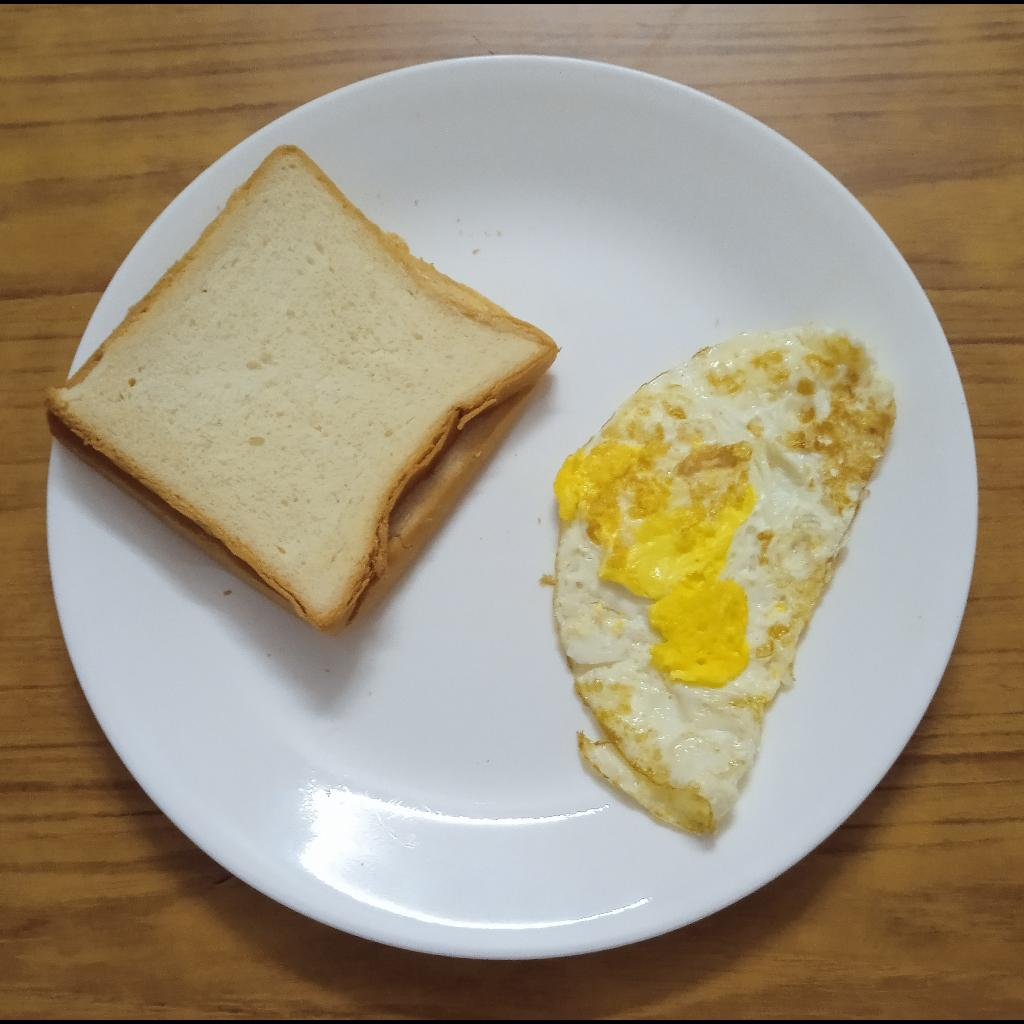bread: (43, 142, 562, 634)
egg-poached: (551, 325, 904, 836)
